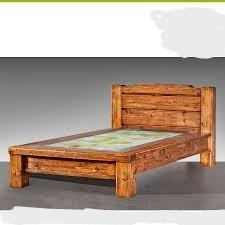Bed-Mattress: (7, 76, 215, 197)
